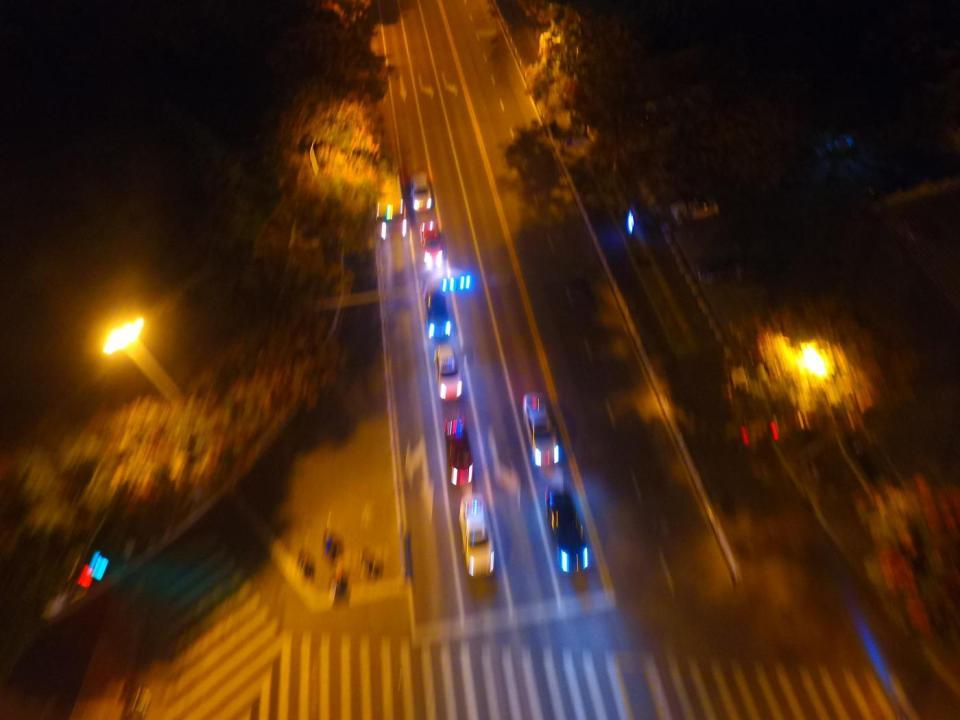car: (542, 488, 591, 572), (458, 492, 495, 575), (522, 391, 558, 464), (442, 420, 473, 485), (431, 344, 462, 401), (424, 292, 449, 340), (420, 222, 446, 264), (412, 173, 434, 216)
